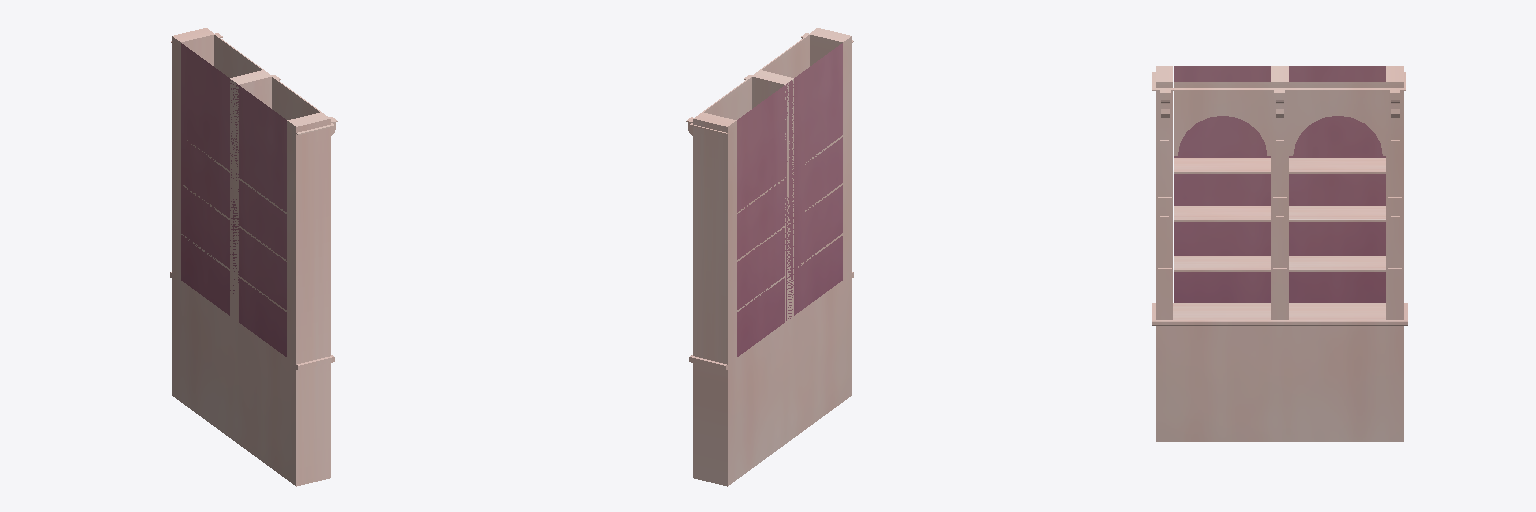
The picture shows the model from 3 angles: view 1: azimuth 30°, elevation 25°; view 2: azimuth 150°, elevation 25°; view 3: azimuth 270°, elevation 25°; orthographic projection.
Parts seen in each view (by area): view 1: modelPanel4ViewSelectedSet Cupboard group62 _Cupboard:pPlane1, modelPanel4ViewSelectedSet Cupboard group62 _Cupboard:pCube10, modelPanel4ViewSelectedSet Cupboard group62 _Cupboard:pCube14, modelPanel4ViewSelectedSet Cupboard group62 _Cupboard:pCube13, modelPanel4ViewSelectedSet Cupboard group62 _Cupboard:pCube1, modelPanel4ViewSelectedSet Cupboard group62 _Cupboard:pCube12, modelPanel4ViewSelectedSet Cupboard group62 _Cupboard:pCube11; view 2: modelPanel4ViewSelectedSet Cupboard group62 _Cupboard:pPlane1, modelPanel4ViewSelectedSet Cupboard group62 _Cupboard:pCube10, modelPanel4ViewSelectedSet Cupboard group62 _Cupboard:pCube13, modelPanel4ViewSelectedSet Cupboard group62 _Cupboard:pCube14, modelPanel4ViewSelectedSet Cupboard group62 _Cupboard:pCube1, modelPanel4ViewSelectedSet Cupboard group62 _Cupboard:pCube11, modelPanel4ViewSelectedSet Cupboard group62 _Cupboard:pCube12; view 3: modelPanel4ViewSelectedSet Cupboard group62 _Cupboard:pCube10, modelPanel4ViewSelectedSet Cupboard group62 _Cupboard:pPlane1, modelPanel4ViewSelectedSet Cupboard group62 _Cupboard:pCube1, modelPanel4ViewSelectedSet Cupboard group62 _Cupboard:pCube13, modelPanel4ViewSelectedSet Cupboard group62 _Cupboard:pCube14, modelPanel4ViewSelectedSet Cupboard group62 _Cupboard:pCube12, modelPanel4ViewSelectedSet Cupboard group62 _Cupboard:pCube11, modelPanel4ViewSelectedSet Cupboard group62 _Cupboard:pCube9, modelPanel4ViewSelectedSet Cupboard group62 _Cupboard:pCube8, modelPanel4ViewSelectedSet Cupboard group62 _Cupboard:pCube7, modelPanel4ViewSelectedSet Cupboard group62 _Cupboard:pCube6, modelPanel4ViewSelectedSet Cupboard group62 _Cupboard:pCube5 (+4 smaller).
Boxes of the visible parts, x1,y1,x2,y2 form: modelPanel4ViewSelectedSet Cupboard group62 _Cupboard:pPlane1: [181, 43, 286, 356]; modelPanel4ViewSelectedSet Cupboard group62 _Cupboard:pCube10: [170, 272, 334, 486]; modelPanel4ViewSelectedSet Cupboard group62 _Cupboard:pCube14: [287, 112, 330, 364]; modelPanel4ViewSelectedSet Cupboard group62 _Cupboard:pCube13: [172, 28, 213, 279]; modelPanel4ViewSelectedSet Cupboard group62 _Cupboard:pCube1: [230, 70, 272, 321]; modelPanel4ViewSelectedSet Cupboard group62 _Cupboard:pCube12: [214, 34, 263, 77]; modelPanel4ViewSelectedSet Cupboard group62 _Cupboard:pCube11: [272, 77, 320, 119]; modelPanel4ViewSelectedSet Cupboard group62 _Cupboard:pPlane1: [737, 43, 842, 356]; modelPanel4ViewSelectedSet Cupboard group62 _Cupboard:pCube10: [689, 272, 853, 486]; modelPanel4ViewSelectedSet Cupboard group62 _Cupboard:pCube13: [693, 112, 736, 364]; modelPanel4ViewSelectedSet Cupboard group62 _Cupboard:pCube14: [810, 28, 851, 279]; modelPanel4ViewSelectedSet Cupboard group62 _Cupboard:pCube1: [751, 70, 793, 321]; modelPanel4ViewSelectedSet Cupboard group62 _Cupboard:pCube11: [760, 34, 809, 77]; modelPanel4ViewSelectedSet Cupboard group62 _Cupboard:pCube12: [703, 77, 751, 119]; modelPanel4ViewSelectedSet Cupboard group62 _Cupboard:pCube10: [1152, 303, 1407, 441]; modelPanel4ViewSelectedSet Cupboard group62 _Cupboard:pPlane1: [1174, 66, 1385, 302]; modelPanel4ViewSelectedSet Cupboard group62 _Cupboard:pCube1: [1271, 66, 1288, 319]; modelPanel4ViewSelectedSet Cupboard group62 _Cupboard:pCube13: [1386, 66, 1403, 319]; modelPanel4ViewSelectedSet Cupboard group62 _Cupboard:pCube14: [1156, 66, 1172, 319]; modelPanel4ViewSelectedSet Cupboard group62 _Cupboard:pCube12: [1289, 82, 1385, 111]; modelPanel4ViewSelectedSet Cupboard group62 _Cupboard:pCube11: [1174, 82, 1270, 111]; modelPanel4ViewSelectedSet Cupboard group62 _Cupboard:pCube9: [1289, 206, 1385, 221]; modelPanel4ViewSelectedSet Cupboard group62 _Cupboard:pCube8: [1289, 158, 1385, 173]; modelPanel4ViewSelectedSet Cupboard group62 _Cupboard:pCube7: [1289, 256, 1385, 271]; modelPanel4ViewSelectedSet Cupboard group62 _Cupboard:pCube6: [1174, 256, 1270, 271]; modelPanel4ViewSelectedSet Cupboard group62 _Cupboard:pCube5: [1174, 206, 1270, 221].
Size of the model in its own units: 38.08 by 300 by 193.
1 materials, 1 textured.